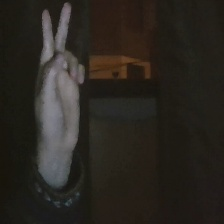K: (27, 1, 96, 164)
